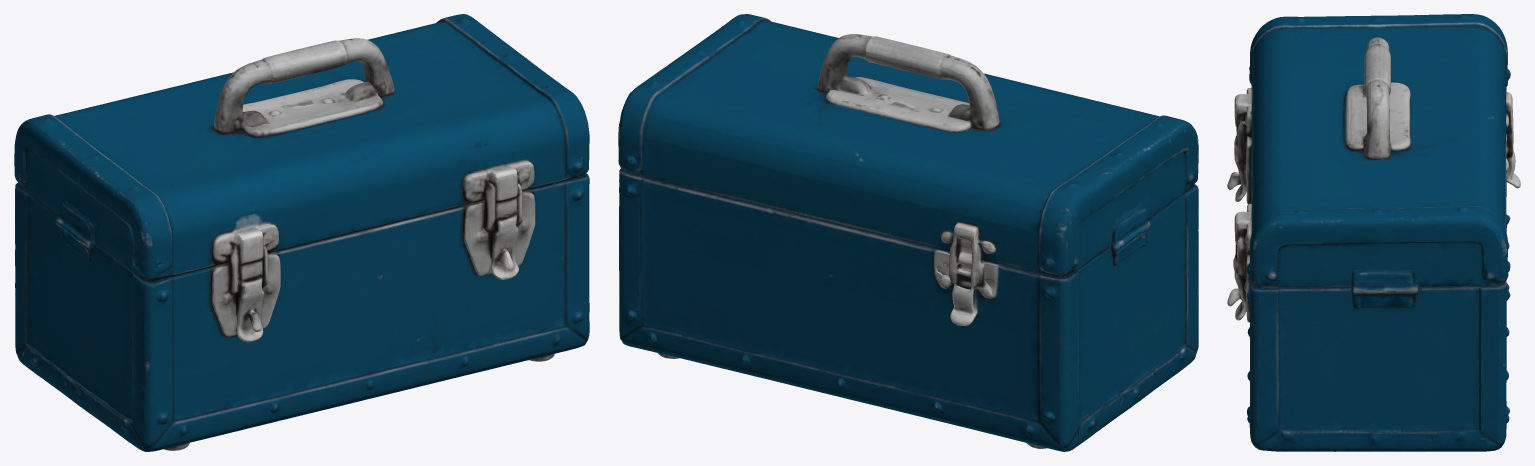
The model's file is whole.glb.
3 views of the same model, side by side, from view 1: azimuth 30°, elevation 25°; view 2: azimuth 150°, elevation 25°; view 3: azimuth 270°, elevation 25° (orthographic). The views are drawn at different scales.
Visible parts, largest first — view 1: world; view 2: world; view 3: world.
Boxes of the visible parts, x1,y1,x2,y2 form: world: (14,14,589,451); world: (618,14,1198,451); world: (1227,14,1520,451).
Size of the model in its own units: 0.45 by 0.2951 by 0.2655.
1 material, 1 textured.
